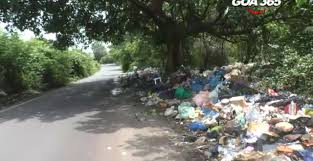garbage: (209, 93, 312, 161), (178, 67, 251, 124)
